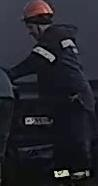helmet: (22, 0, 55, 24)
vest: (32, 22, 97, 115)
